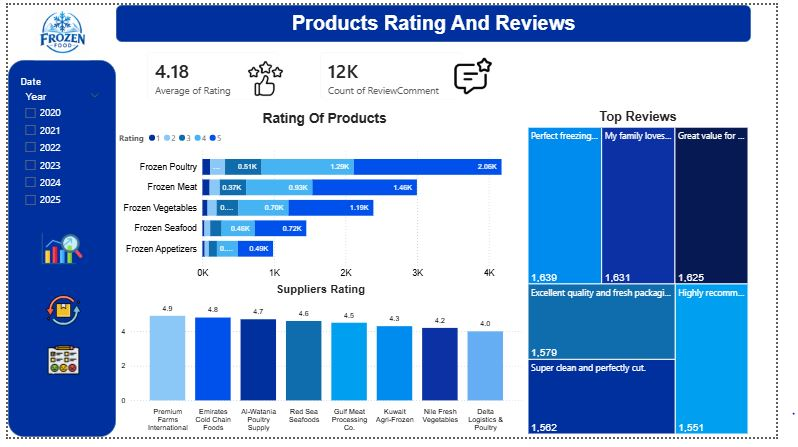

What the dashboard file says about the page in this screenshot:
{"tool":"powerbi","page":{"name":"Page 4","canvas":[1280,720],"ordinal":3},"visuals":[{"type":"shape","box":[0,91.7,180,628.3],"z":0},{"type":"shape","box":[180,0,1058.3,61.7],"z":1000},{"type":"cardVisual","fields":{"Data":["CountNonNull(Fact_ProductReviews.ReviewComment)"]},"box":[503.3,61.7,271.7,113.3],"z":2000},{"type":"cardVisual","fields":{"Data":["Avg(Fact_ProductReviews.Rating)"]},"box":[215,61.7,251.7,113.3],"z":3000},{"type":"barChart","title":"Rating Of Products","fields":{"Category":["Dim_Products.ProductName"],"Series":["Fact_ProductReviews.Rating"],"Y":["CountNonNull(Fact_ProductReviews.ReviewID)"]},"box":[180,175,695,288.3],"z":4000},{"type":"lineClusteredColumnComboChart","title":"Suppliers Rating","fields":{"Category":["Dim_Suppliers.SupplierName"],"Y":["Sum(Dim_Suppliers.SupplierRating)"]},"box":[180,463.3,681.7,256.7],"z":5000},{"type":"slicer","title":"Date","fields":{"Values":["Fact_Sales.Date.Variation.Date Hierarchy.Year"]},"box":[15,116.7,150,243.3],"z":6000},{"type":"treemap","title":"Top Reviews","fields":{"Group":["Fact_ProductReviews.ReviewComment"],"Values":["CountNonNull(Fact_ProductReviews.ReviewID)"]},"box":[861.7,175,376.7,545],"z":7000},{"type":"image","box":[45,371.7,90,68.3],"z":8000},{"type":"image","box":[45,480,95,58.3],"z":9000},{"type":"image","box":[45,565,95,53.3],"z":10000},{"type":"image","box":[391.7,90,75,65],"z":11000},{"type":"image","box":[741.7,83.3,66.7,70],"z":12000},{"type":"image","box":[0,0,180,91.7],"z":13000}]}

Visuals, with their boxes in screenshot pixels (x1, y1, x2, y2), scaled from the page's 1280x720 canvas onto the 798x447 screenshot:
shape: <bbox>0, 57, 112, 446</bbox>
shape: <bbox>112, 0, 772, 38</bbox>
cardVisual - CountNonNull(Fact_ProductReviews.ReviewComment): <bbox>314, 38, 483, 109</bbox>
cardVisual - Avg(Fact_ProductReviews.Rating): <bbox>134, 38, 291, 109</bbox>
"Rating Of Products" barChart: <bbox>112, 109, 546, 288</bbox>
"Suppliers Rating" lineClusteredColumnComboChart: <bbox>112, 288, 537, 446</bbox>
"Date" slicer: <bbox>9, 72, 103, 224</bbox>
"Top Reviews" treemap: <bbox>537, 109, 772, 446</bbox>
image: <bbox>28, 231, 84, 273</bbox>
image: <bbox>28, 298, 87, 334</bbox>
image: <bbox>28, 351, 87, 384</bbox>
image: <bbox>244, 56, 291, 96</bbox>
image: <bbox>462, 52, 504, 95</bbox>
image: <bbox>0, 0, 112, 57</bbox>
